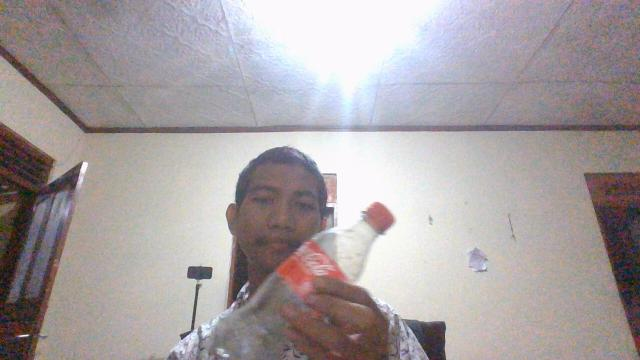coca-cola: (208, 196, 404, 360)
